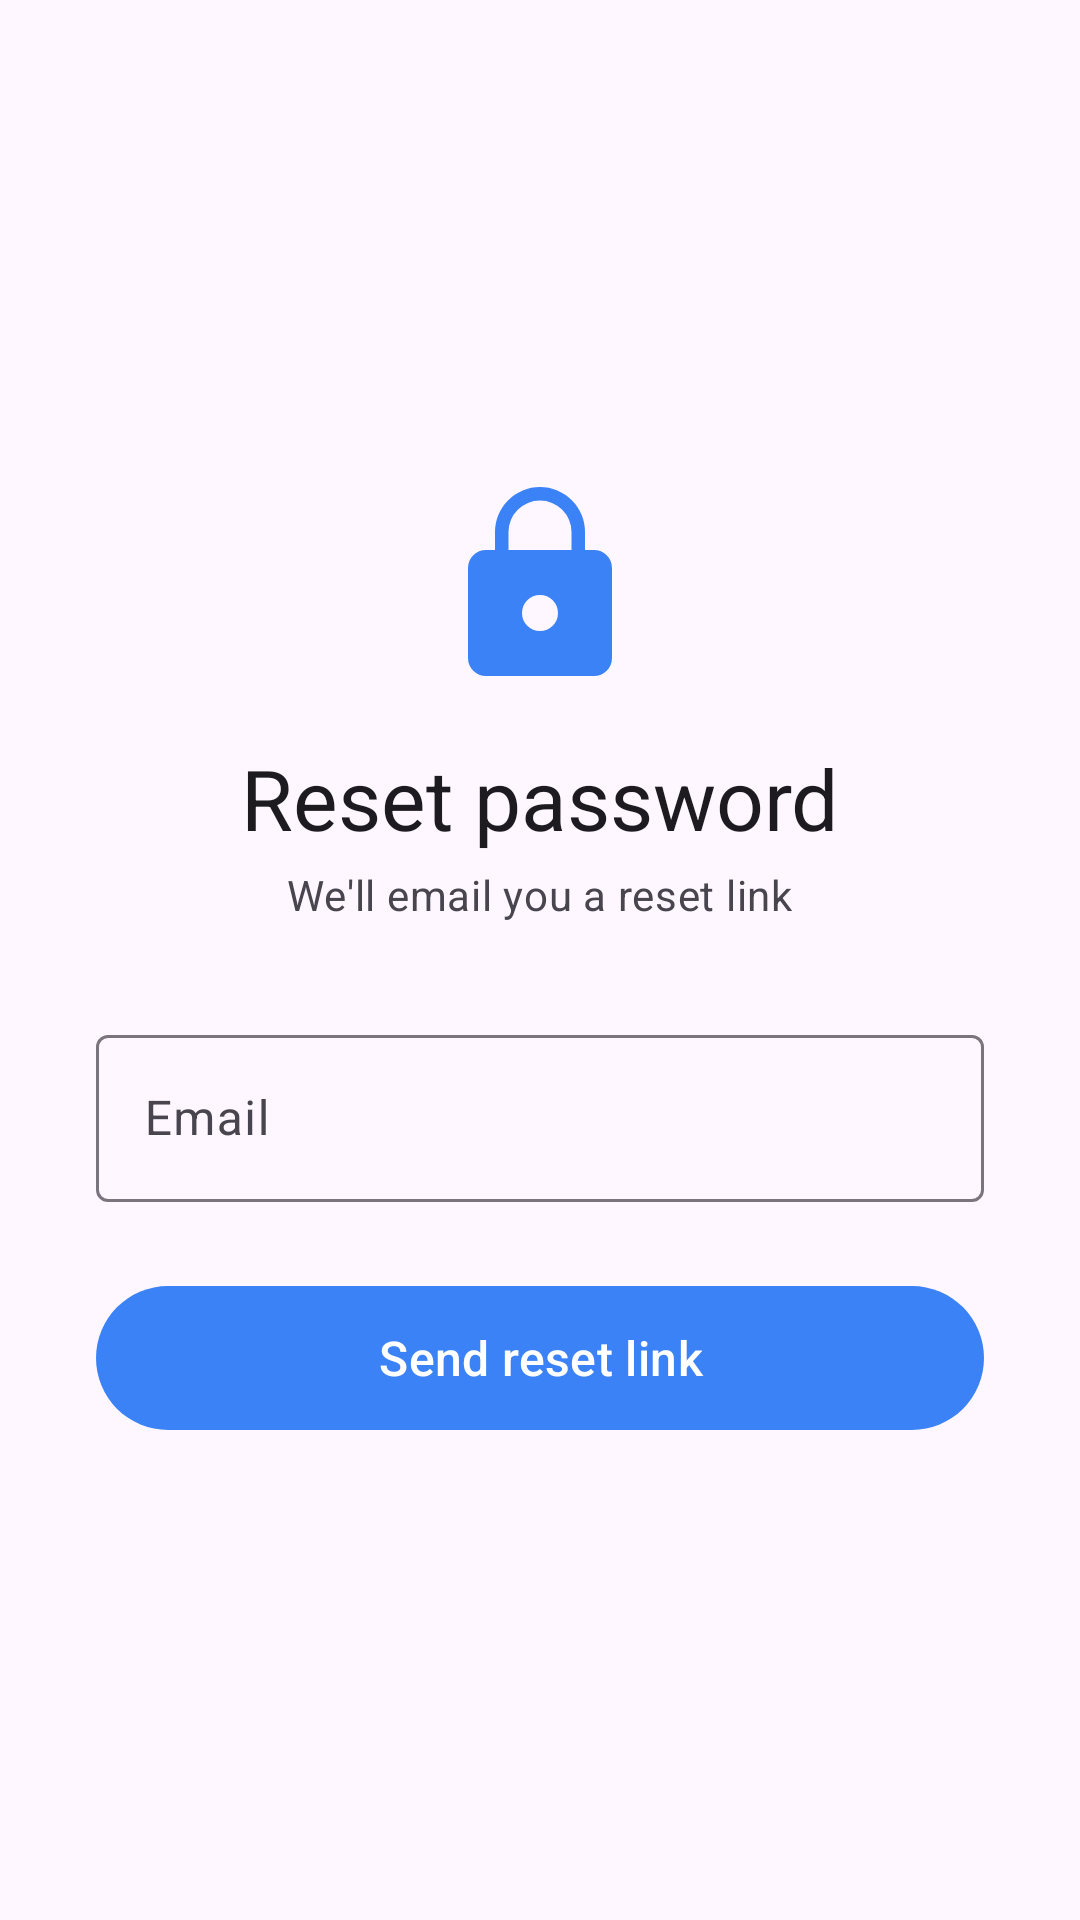

Screen size 1080x1920. Icon name, then its center in pixels as [x,y]:
lock: [540,581]
